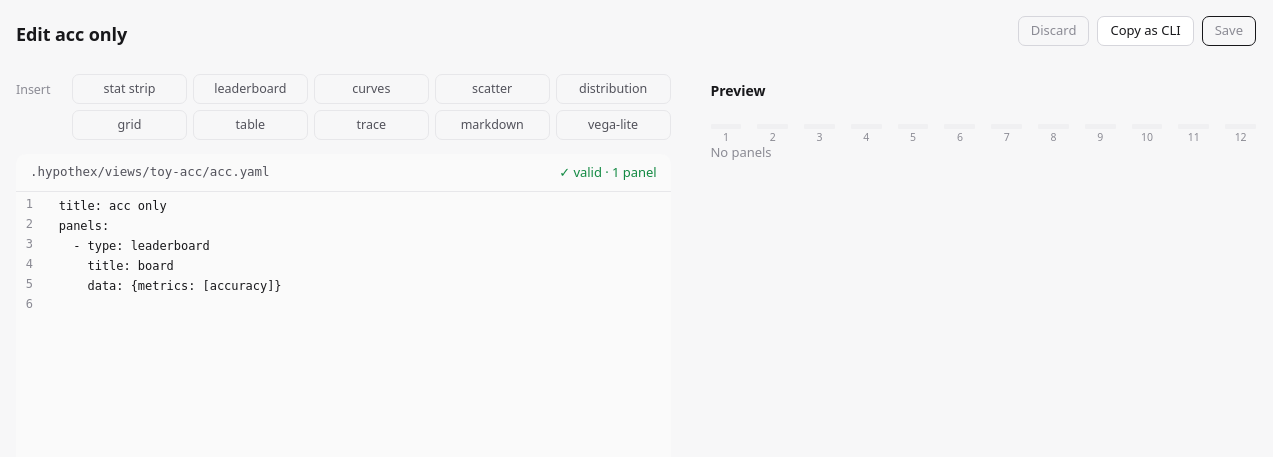
Test: ViewEditor › a 400 from Save shows the error and the server's issues
This screenshot has width=1273, height=457.
Click the button "markdown".
click(492, 125)  # box [435,110,550,140]
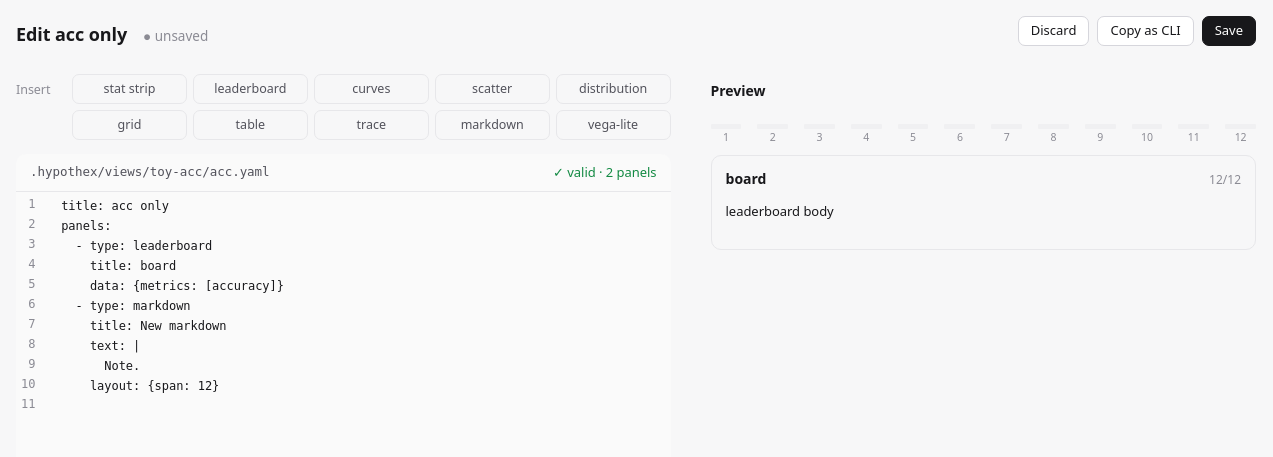
Check: the button "Save" is enabled
Click the button "Save".
click(1229, 31)  # box [1202,16,1256,46]
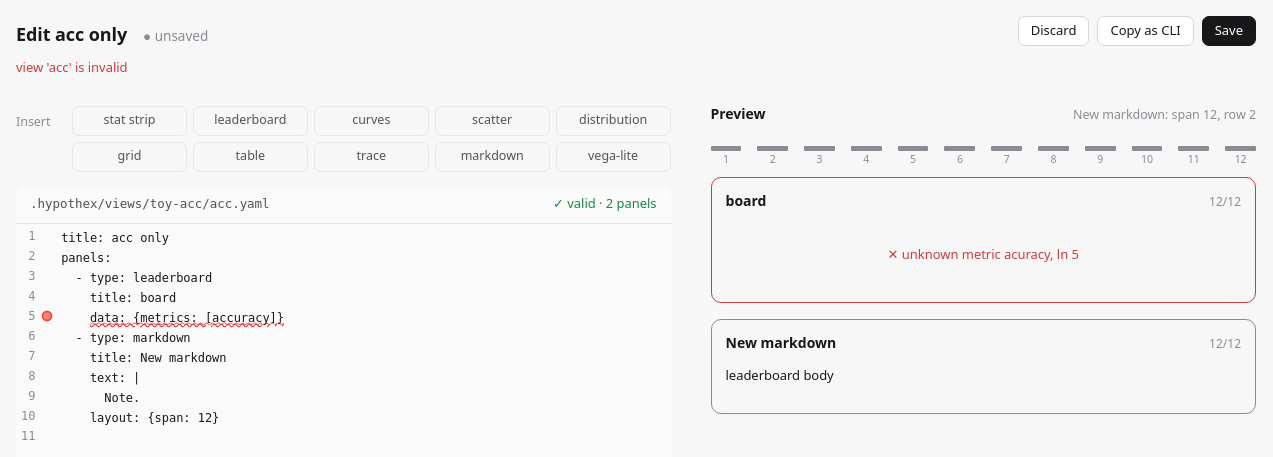
Check: the text "● unsaved" is shown, box [143,30,208,43]
Check: the message reads "view 'acc' is invalid", box [16,58,128,76]
